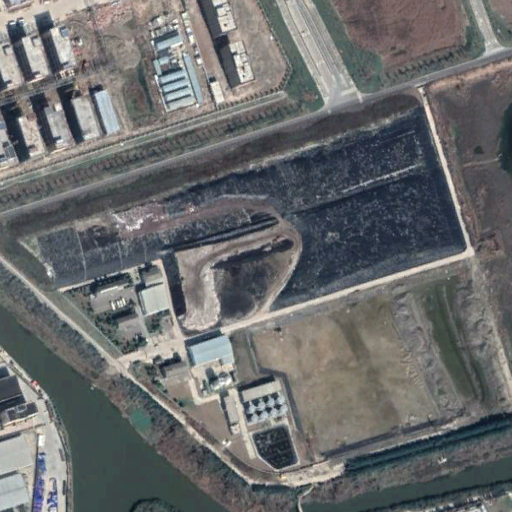lf: (5, 94, 471, 339)
